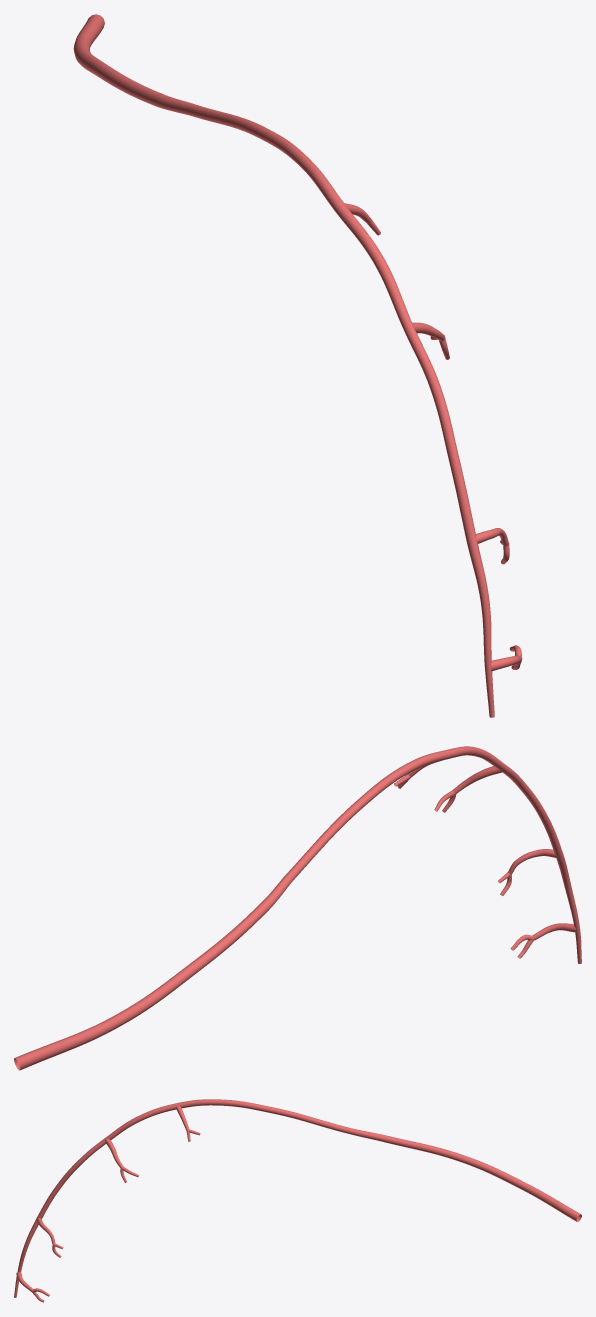
Rendered from Dorsal_artery_of_penis.l_BezierCurve.188.glb.
3 renders of one model, top to bottom at view 1: azimuth 30°, elevation 25°; view 2: azimuth 150°, elevation 25°; view 3: azimuth 270°, elevation 25°, orthographic. The views are drawn at different scales.
Parts seen in each view (by area): view 1: Dorsal_artery_of_penis.l_BezierCurve.188; view 2: Dorsal_artery_of_penis.l_BezierCurve.188; view 3: Dorsal_artery_of_penis.l_BezierCurve.188.
Boxes of the visible parts, x1,y1,x2,y2 form: Dorsal_artery_of_penis.l_BezierCurve.188: (73,14,522,717); Dorsal_artery_of_penis.l_BezierCurve.188: (14,746,581,1070); Dorsal_artery_of_penis.l_BezierCurve.188: (14,1099,581,1302).
Bounding box in the file's own units: 0.0231 × 0.0502 × 0.1278.
